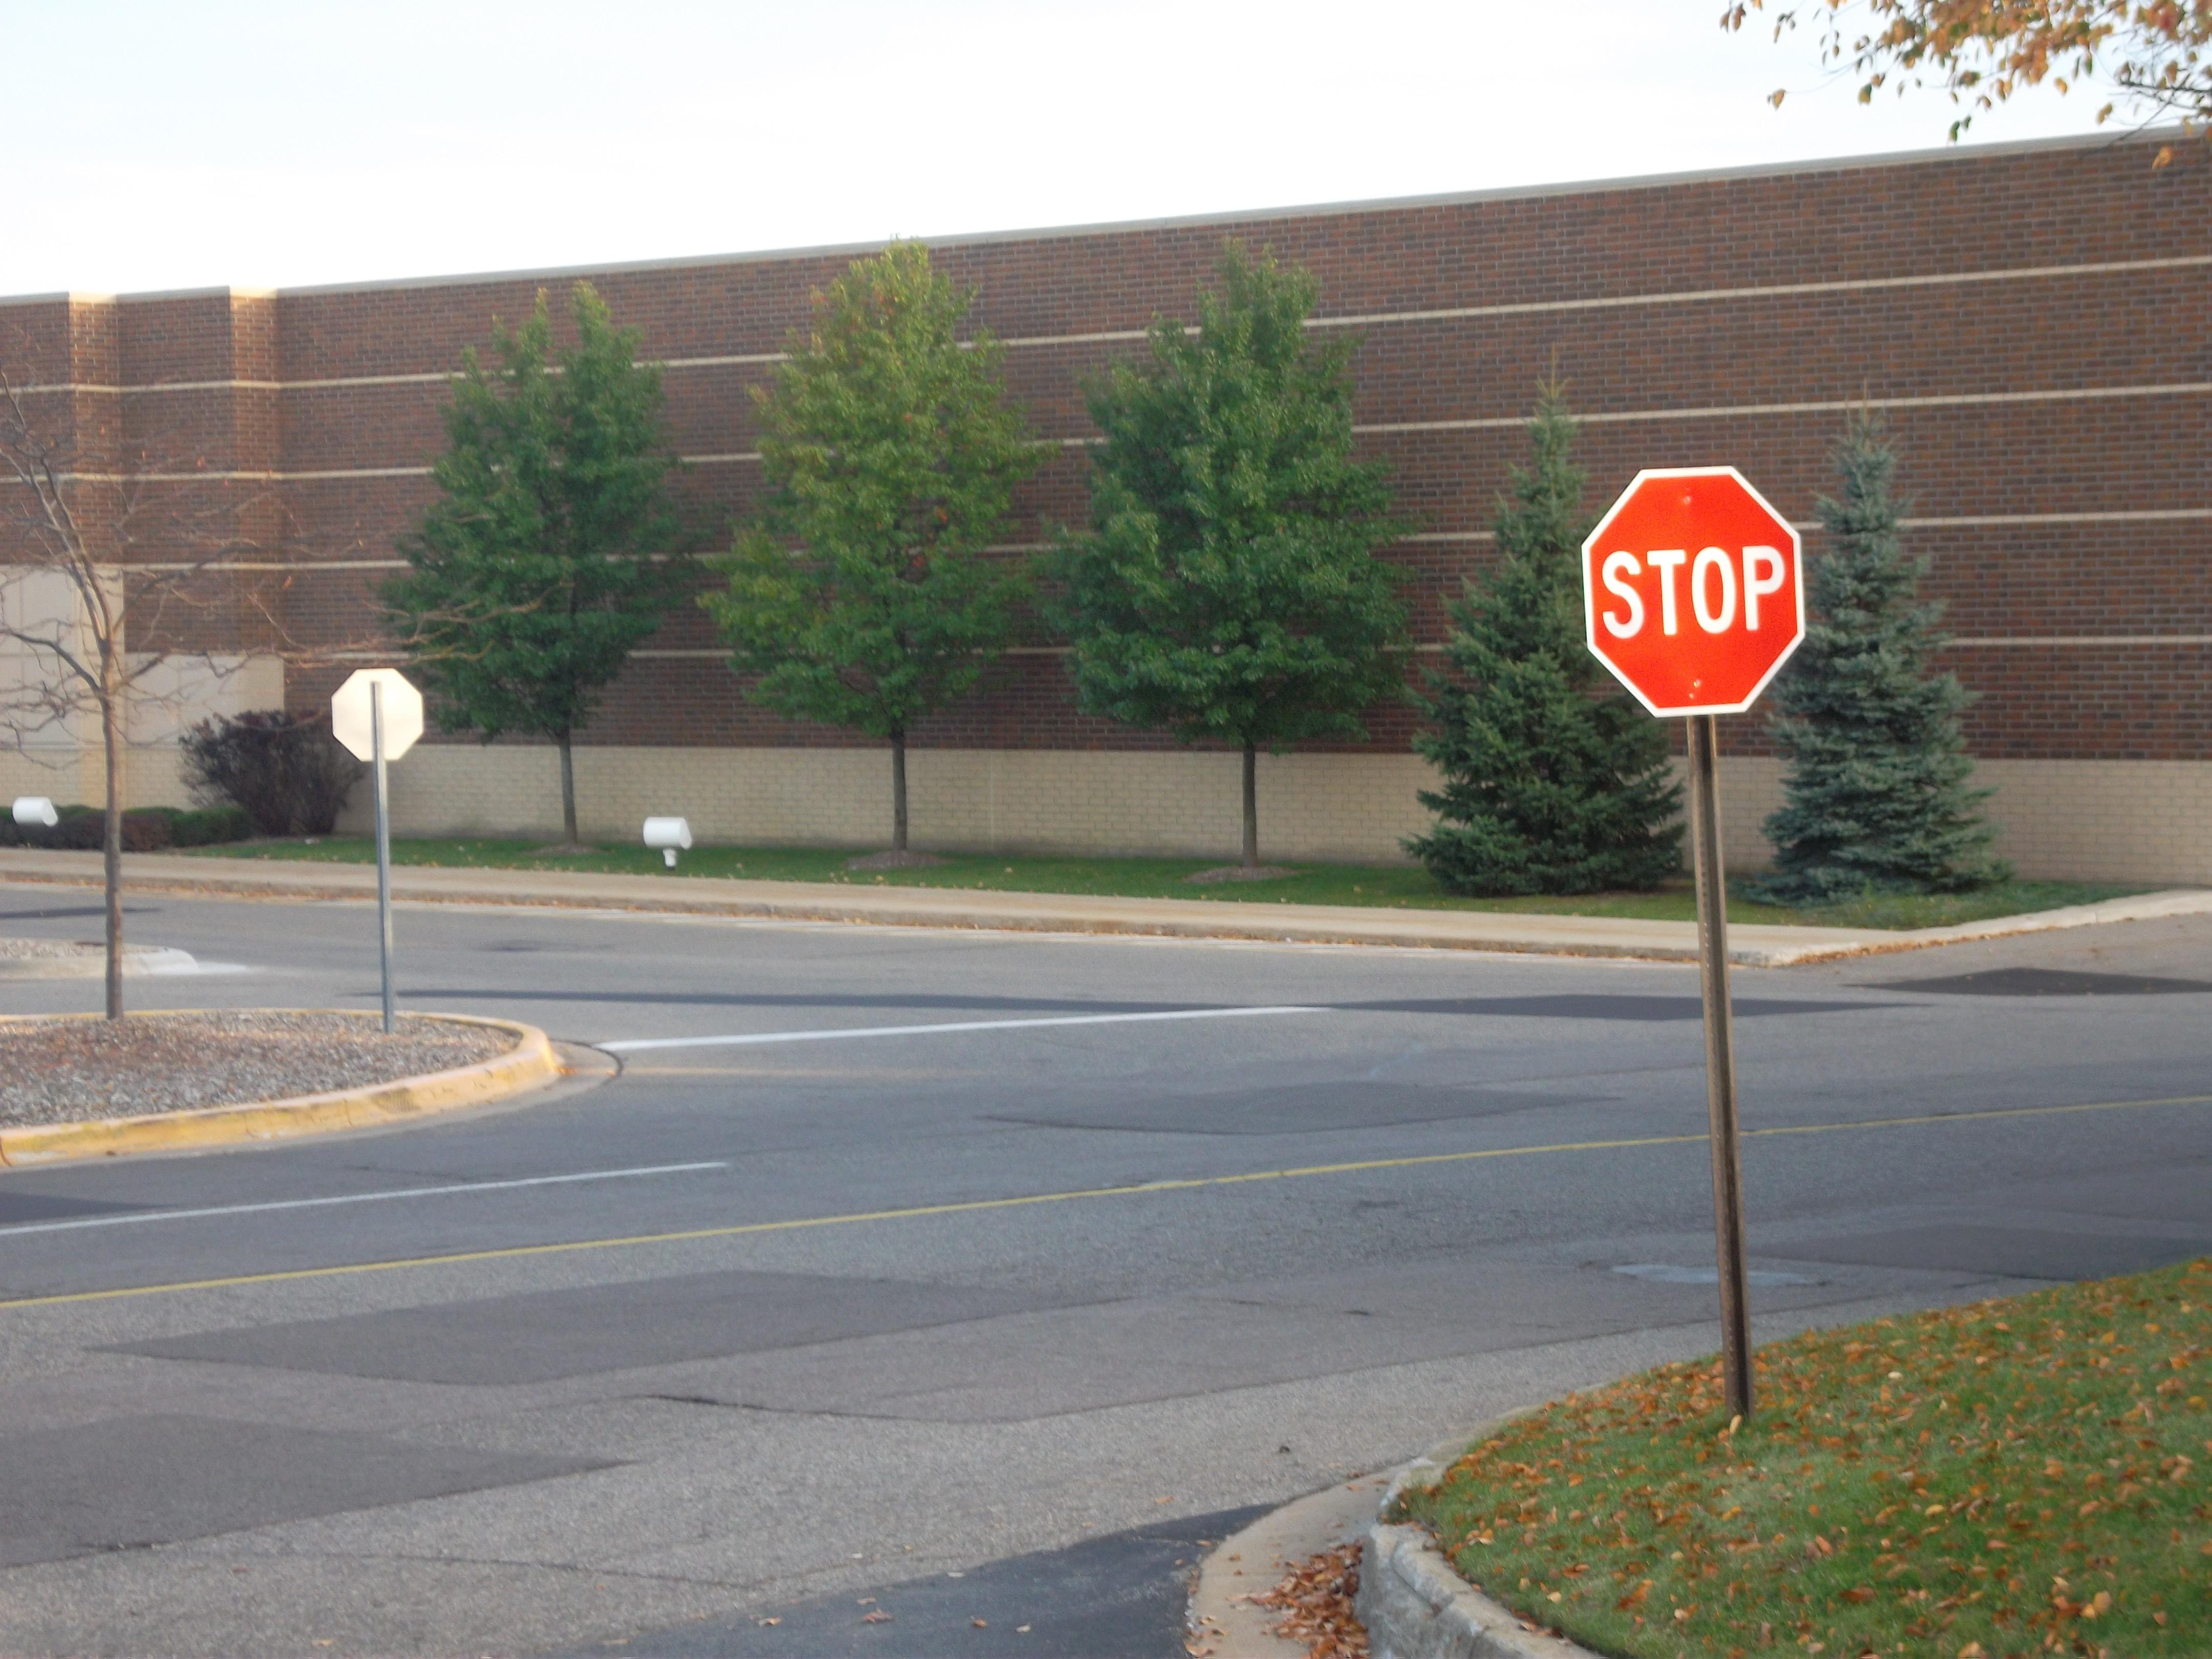stop: (1580, 469, 1806, 721)
